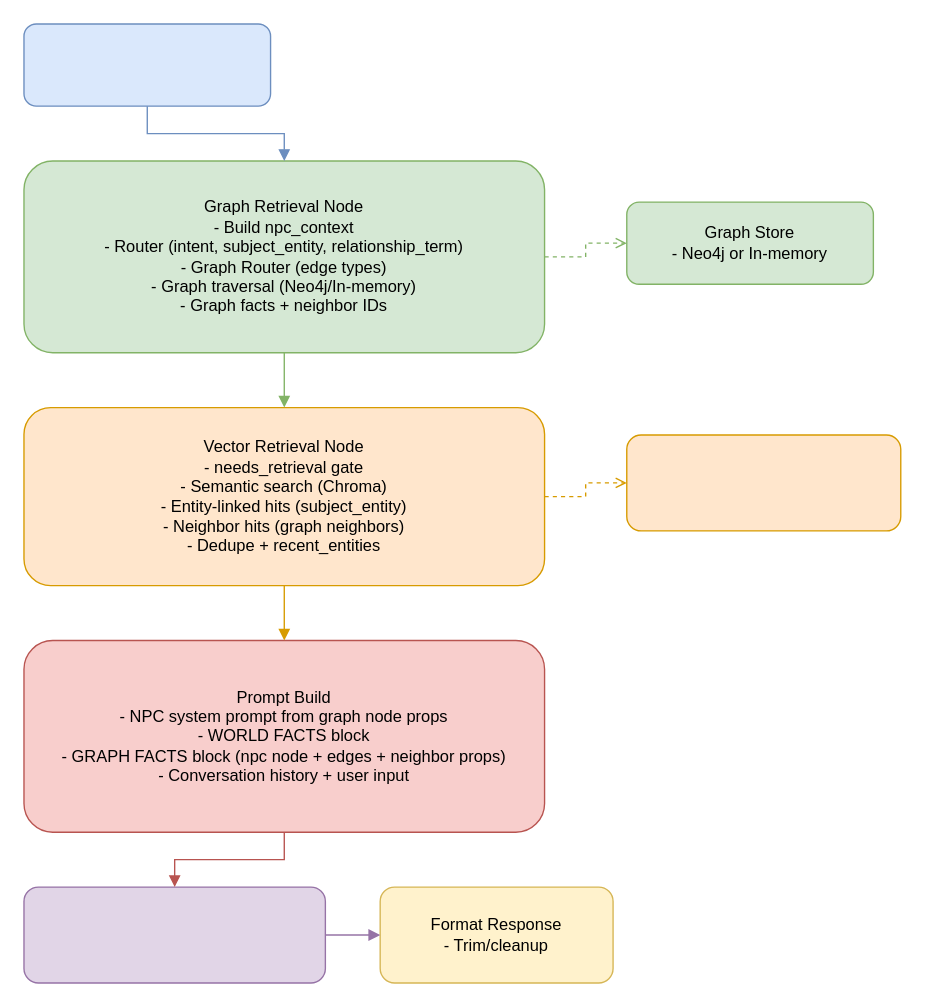
Some shapes in this 925 by 1007 pixel diagram are drawn without their labels. The shapes that lost their labels are listed below. From the top down, each one's centre as x and y in pixels, then its label:
(147,64): User Input (main loop)
(763,482): Vector Store - Chroma - world_facts.json index
(174,934): LLM Call - Provider (Google/LM Studio)
